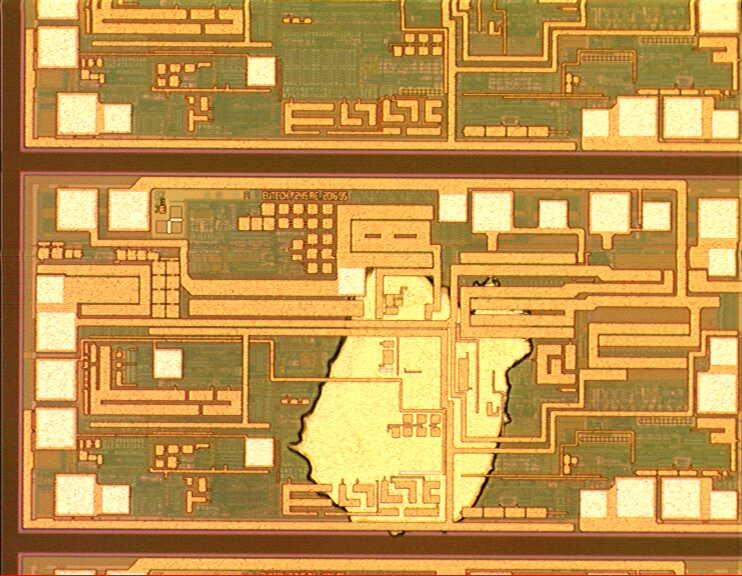BLOCK ETCH: (285, 250, 540, 542)
